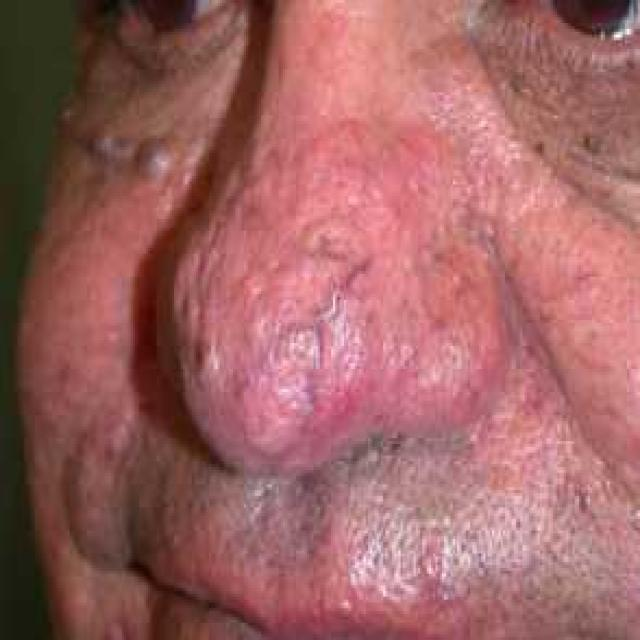Rosacea: (192, 118, 478, 420)
